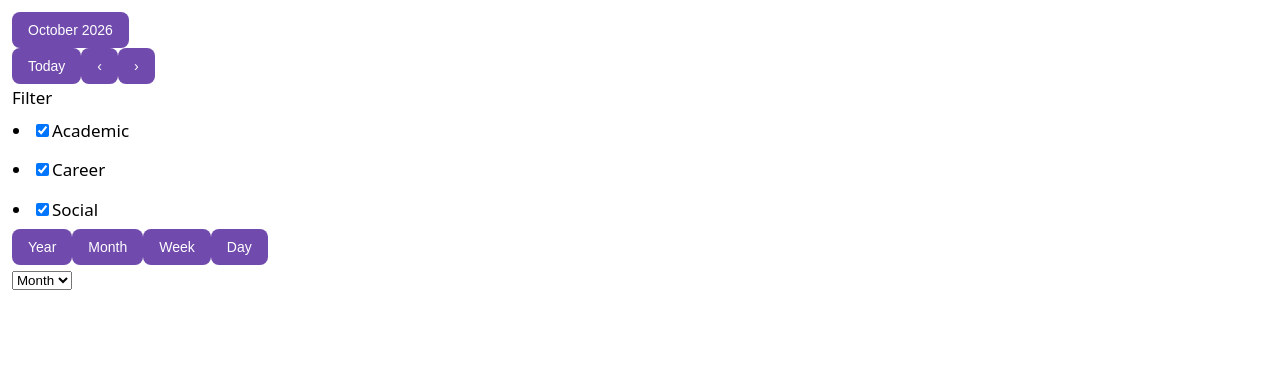
date picker › opens just the months in month view, and goes to the one picked
Click the button "October 2026" at (70, 30), box [12,12,129,48]
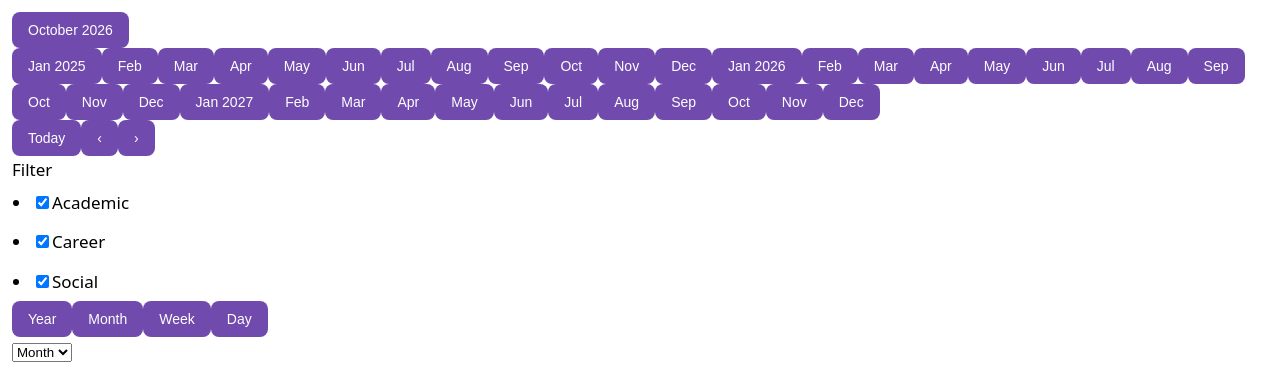
Click the button "Jan 2027" at (224, 102), box [180,84,269,120]
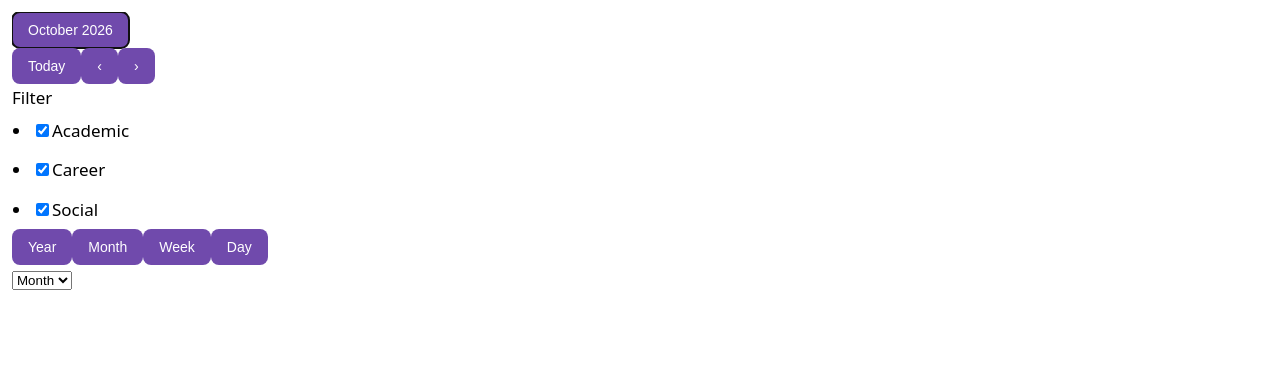
Check: the element "Months" is gone
